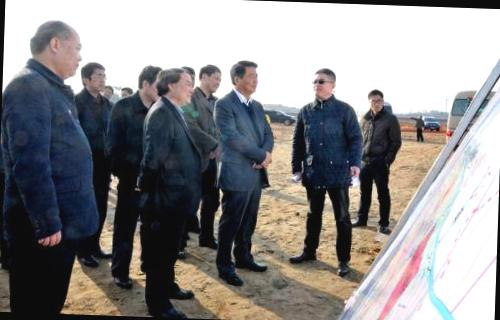no_helmet: (26, 14, 87, 77), (228, 58, 264, 98), (160, 65, 193, 105), (308, 65, 341, 102), (78, 59, 110, 96), (135, 63, 164, 102), (196, 60, 225, 95), (364, 86, 388, 114)
